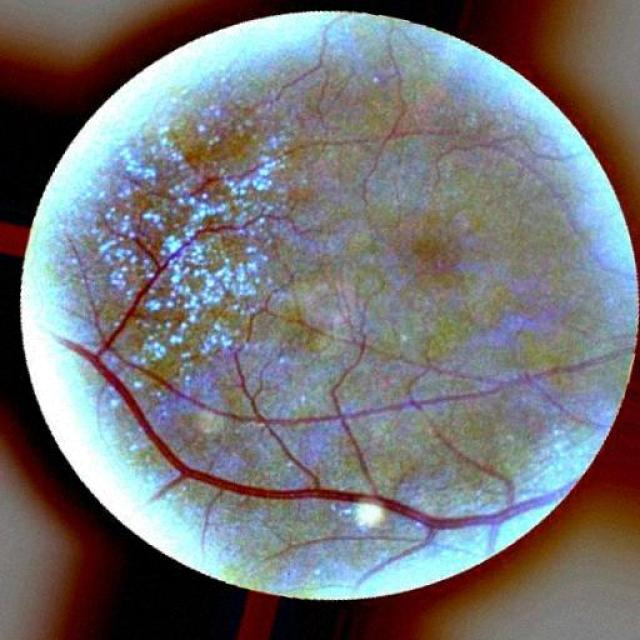Macula: (391, 231, 477, 300)
Nerves: (81, 232, 583, 534)
